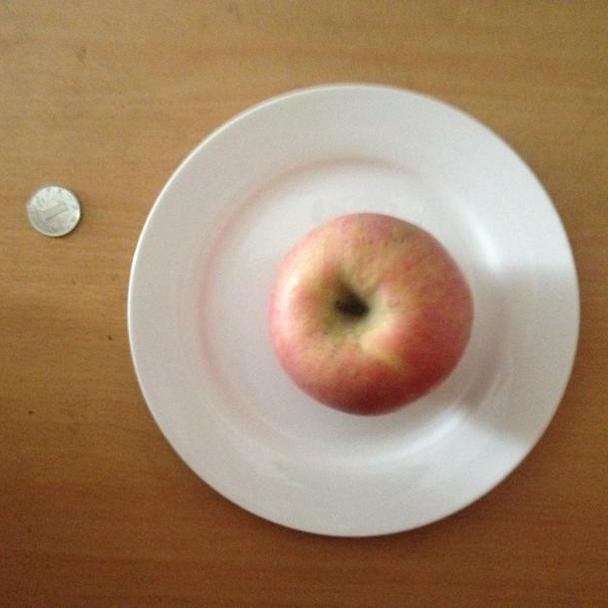apple: (262, 210, 480, 421)
